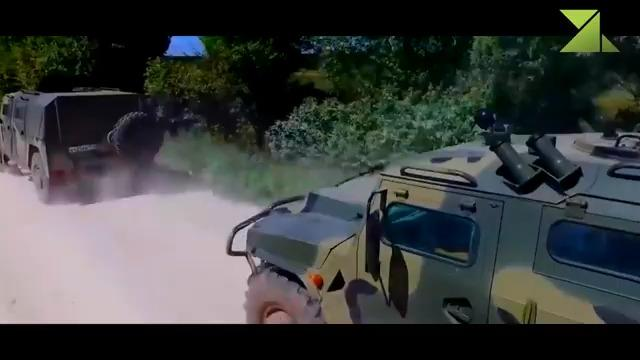MIL_HMMWV: (225, 125, 640, 324), (0, 89, 165, 206)
